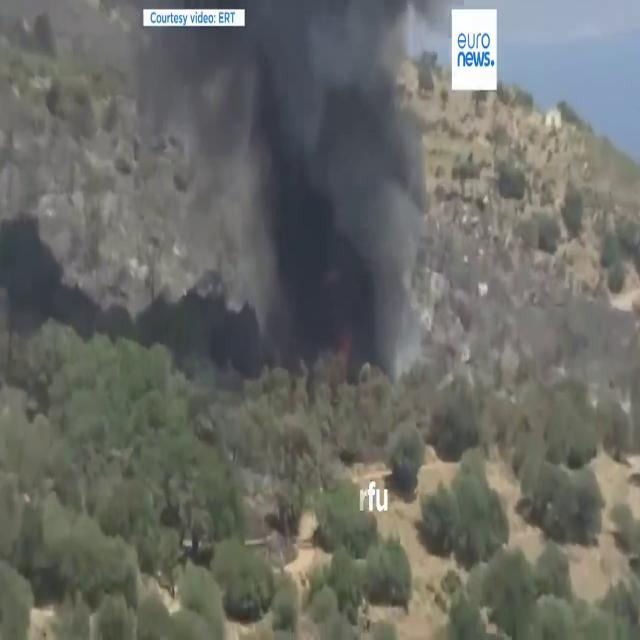Smoke: (178, 1, 446, 378)
